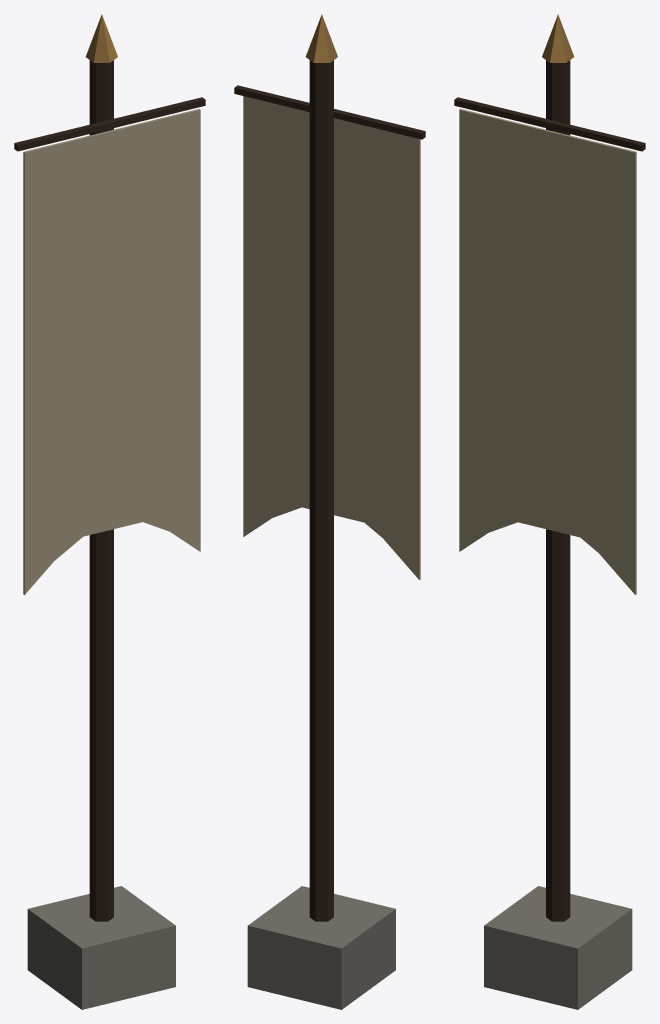
Rendered from walk_prop_banner_pole.glb.
3 views of the same model, side by side, from view 1: azimuth 30°, elevation 25°; view 2: azimuth 150°, elevation 25°; view 3: azimuth 330°, elevation 25° (orthographic).
Parts seen in each view (by area): view 1: walk_prop_banner_pole_cloth, walk_prop_banner_pole; view 2: walk_prop_banner_pole_cloth, walk_prop_banner_pole; view 3: walk_prop_banner_pole_cloth, walk_prop_banner_pole.
Boxes of the visible parts, x1,y1,x2,y2 form: walk_prop_banner_pole_cloth: [23, 109, 200, 594]; walk_prop_banner_pole: [14, 14, 205, 1009]; walk_prop_banner_pole_cloth: [243, 96, 420, 579]; walk_prop_banner_pole: [234, 14, 425, 1009]; walk_prop_banner_pole_cloth: [459, 109, 636, 594]; walk_prop_banner_pole: [454, 14, 645, 1009].
Size of what is drawn, in the model's own units: 1.6 by 7.85 by 0.8.
2 materials, 2 textured.
